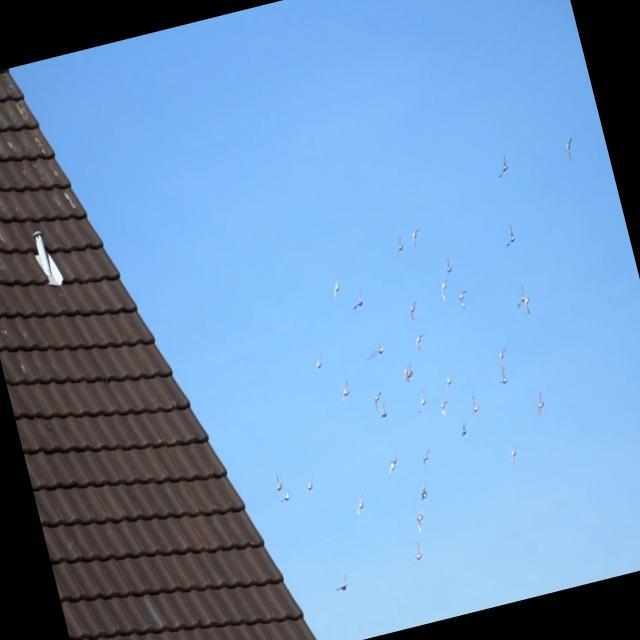bird: (561, 133, 580, 164), (493, 151, 513, 180), (349, 490, 369, 518), (500, 221, 519, 250), (399, 360, 418, 389), (531, 387, 548, 419), (347, 287, 367, 313), (329, 572, 351, 595), (439, 365, 457, 392), (336, 376, 353, 404), (384, 451, 403, 476), (511, 282, 528, 309), (506, 441, 523, 468), (407, 224, 425, 249), (405, 299, 422, 324), (408, 538, 425, 563), (437, 278, 452, 305), (467, 391, 482, 418), (309, 349, 325, 374), (455, 287, 471, 311), (369, 387, 385, 411), (415, 481, 431, 505), (413, 508, 428, 533), (390, 232, 406, 255), (418, 447, 434, 470), (495, 365, 510, 387), (436, 395, 451, 417), (328, 276, 342, 299), (522, 294, 536, 316), (271, 472, 285, 494), (457, 420, 472, 440), (415, 386, 428, 409), (442, 256, 456, 277), (414, 330, 428, 351), (495, 345, 509, 365), (376, 400, 390, 420), (278, 490, 294, 504), (374, 341, 386, 358), (303, 478, 315, 492)
